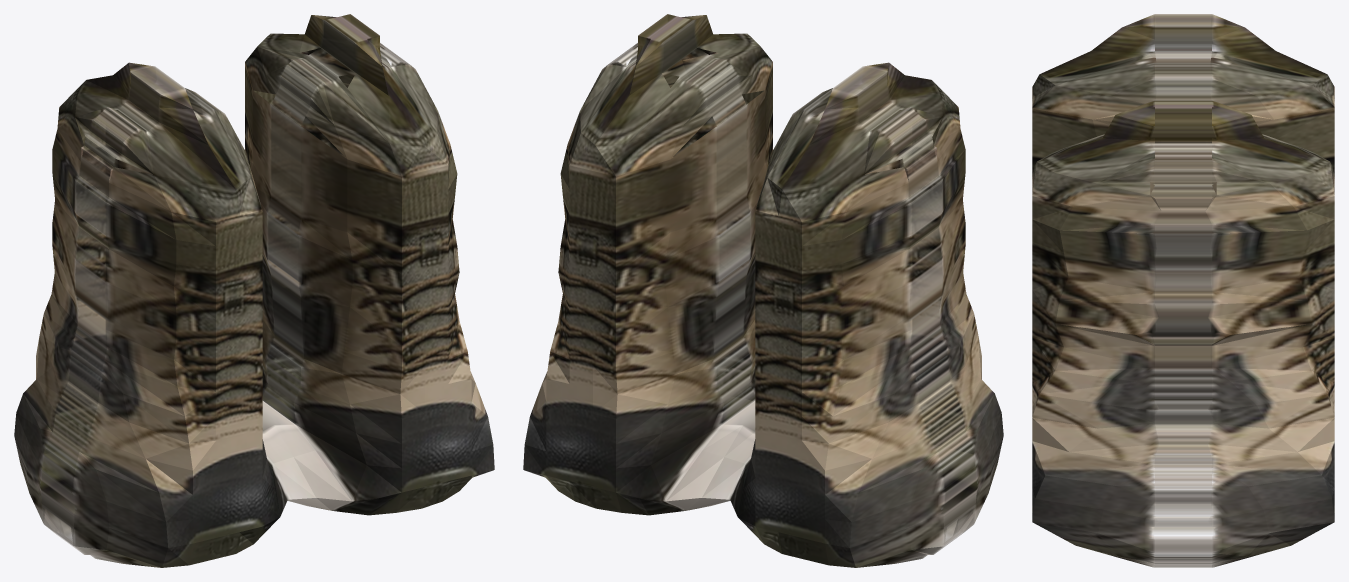
File: givi-nomad-riding-boot-117.glb
3 renders of one model, left to right at view 1: azimuth 30°, elevation 25°; view 2: azimuth 150°, elevation 25°; view 3: azimuth 270°, elevation 25°, orthographic. The views are drawn at different scales.
Parts seen in each view (by area): view 1: world; view 2: world; view 3: world.
Boxes of the visible parts, <box> form: world: <box>14,14,494,567</box>; world: <box>523,14,1003,567</box>; world: <box>1032,14,1334,567</box>.
Size of the model in its own units: 0.9011 by 1 by 0.62.
1 material, 1 textured.
